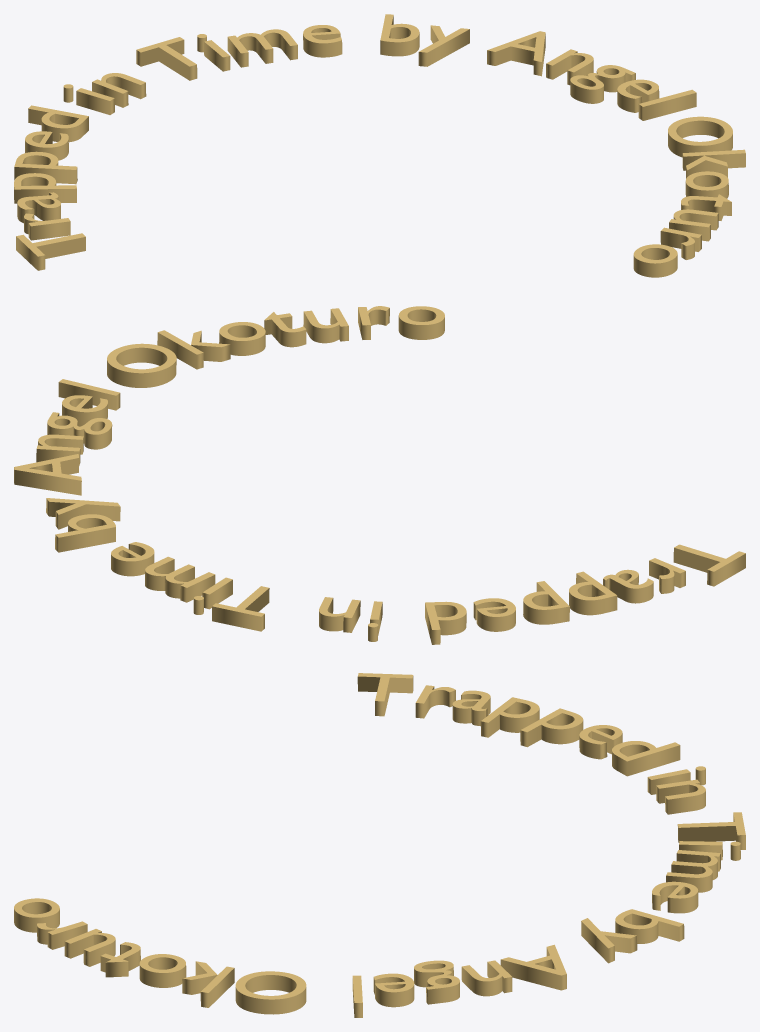
3 views of the same model, one above another, from view 1: azimuth 30°, elevation 25°; view 2: azimuth 150°, elevation 25°; view 3: azimuth 270°, elevation 25° (orthographic). The views are drawn at different scales.
Parts seen in each view (by area): view 1: Mark8_Trapped; view 2: Mark8_Trapped; view 3: Mark8_Trapped.
Part boxes in pixels (x1,y1,x2,y2): Mark8_Trapped: (14,14,745,277); Mark8_Trapped: (14,306,745,644); Mark8_Trapped: (14,673,745,1017).
Bounding box in the file's own units: 3.86 × 0.114 × 3.56.
